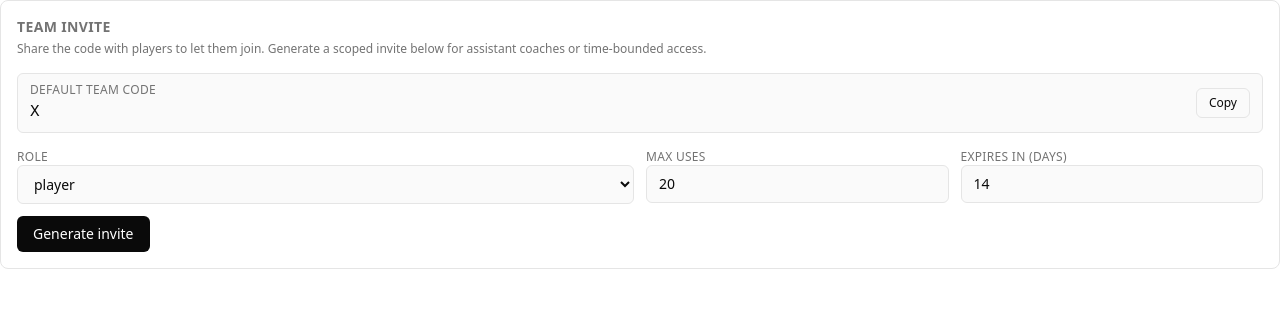
Test case: InvitePanel › surfaces a coach-only error when the user is not authorized
Click the button "Generate invite" at [83, 234], box x1=17 y1=216 x2=150 y2=252
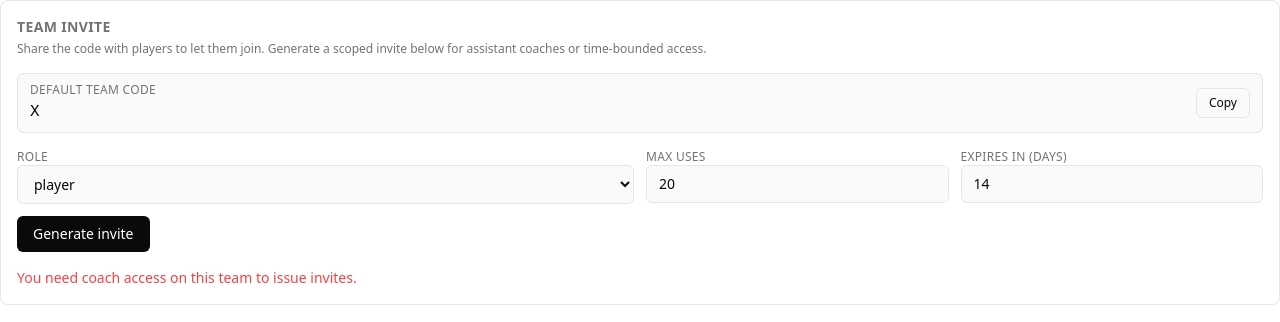
Expected: the message shows "coach access", x1=17 y1=268 x2=357 y2=287
